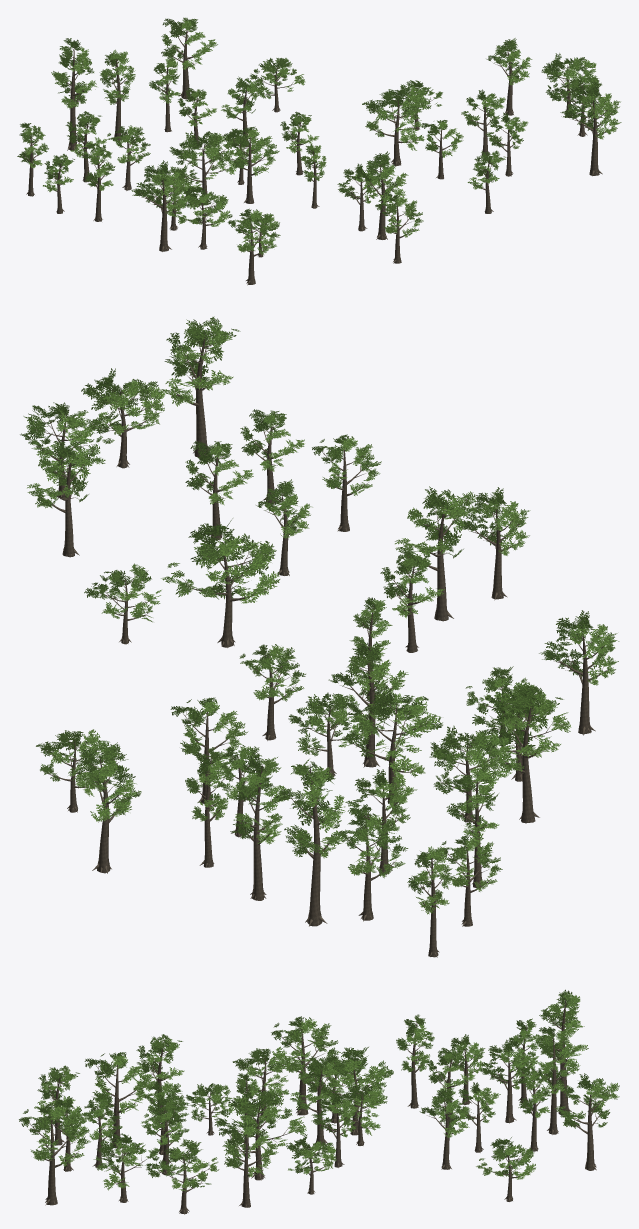
The model's file is Canopy_09_15.glb.
3 renders of one model, top to bottom at view 1: azimuth 30°, elevation 25°; view 2: azimuth 150°, elevation 25°; view 3: azimuth 270°, elevation 25°, orthographic. The views are drawn at different scales.
Parts seen in each view (by area): view 1: Canopy_09_15; view 2: Canopy_09_15; view 3: Canopy_09_15.
Part boxes in pixels (x1,y1,x2,y2): Canopy_09_15: (17,17,621,285); Canopy_09_15: (20,316,619,957); Canopy_09_15: (19,989,619,1214).
Size of the model in its own units: 98.87 by 38.17 by 106.
Materials: 2 (2 with a texture image).
